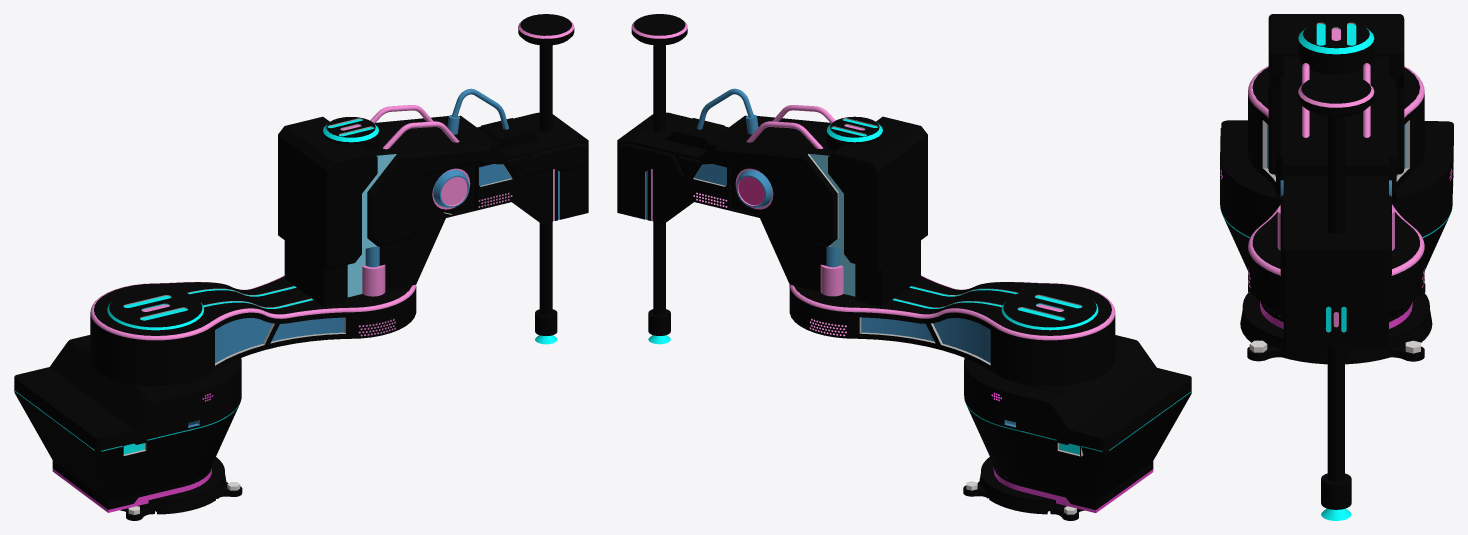
File: scara_model.glb
3 renders of one model, left to right at view 1: azimuth 30°, elevation 25°; view 2: azimuth 150°, elevation 25°; view 3: azimuth 270°, elevation 25°, orthographic. The views are drawn at different scales.
Visible parts, largest first — view 1: Eslabon_2_2.0_2-1, Base_2.0-1, Eslabon_1_2.0-1, Eslabon_3-1; view 2: Eslabon_2_2.0_2-1, Base_2.0-1, Eslabon_1_2.0-1, Eslabon_3-1; view 3: Eslabon_2_2.0_2-1, Base_2.0-1, Eslabon_1_2.0-1, Eslabon_3-1.
Part boxes in pixels (x1,y1,x2,y2): Eslabon_2_2.0_2-1: (278,88,588,307); Base_2.0-1: (14,288,242,520); Eslabon_1_2.0-1: (90,275,416,386); Eslabon_3-1: (518,14,574,344); Eslabon_2_2.0_2-1: (617,88,927,307); Base_2.0-1: (963,288,1191,520); Eslabon_1_2.0-1: (789,275,1115,386); Eslabon_3-1: (631,14,687,344); Eslabon_2_2.0_2-1: (1268,14,1404,347); Base_2.0-1: (1220,120,1453,364); Eslabon_1_2.0-1: (1248,66,1424,312); Eslabon_3-1: (1298,74,1374,520).
Size of the model in its own units: 0.5286 by 0.3566 by 0.1534.
